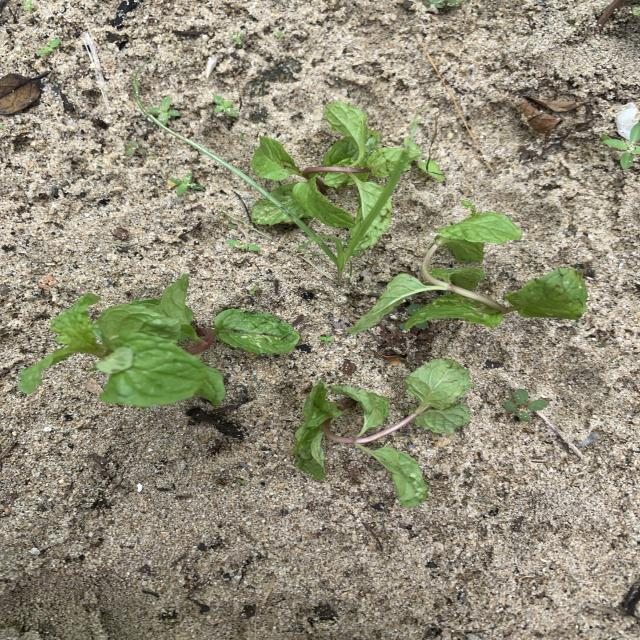crop: (18, 275, 299, 407), (347, 201, 588, 333), (294, 359, 475, 507), (251, 102, 420, 249)
weed: (140, 103, 410, 282), (404, 139, 445, 182), (601, 123, 640, 168), (503, 389, 549, 421), (149, 96, 179, 125), (169, 173, 204, 194), (213, 95, 241, 119), (225, 237, 262, 253), (35, 38, 61, 57), (124, 140, 147, 156), (319, 334, 335, 344), (246, 285, 259, 296)
